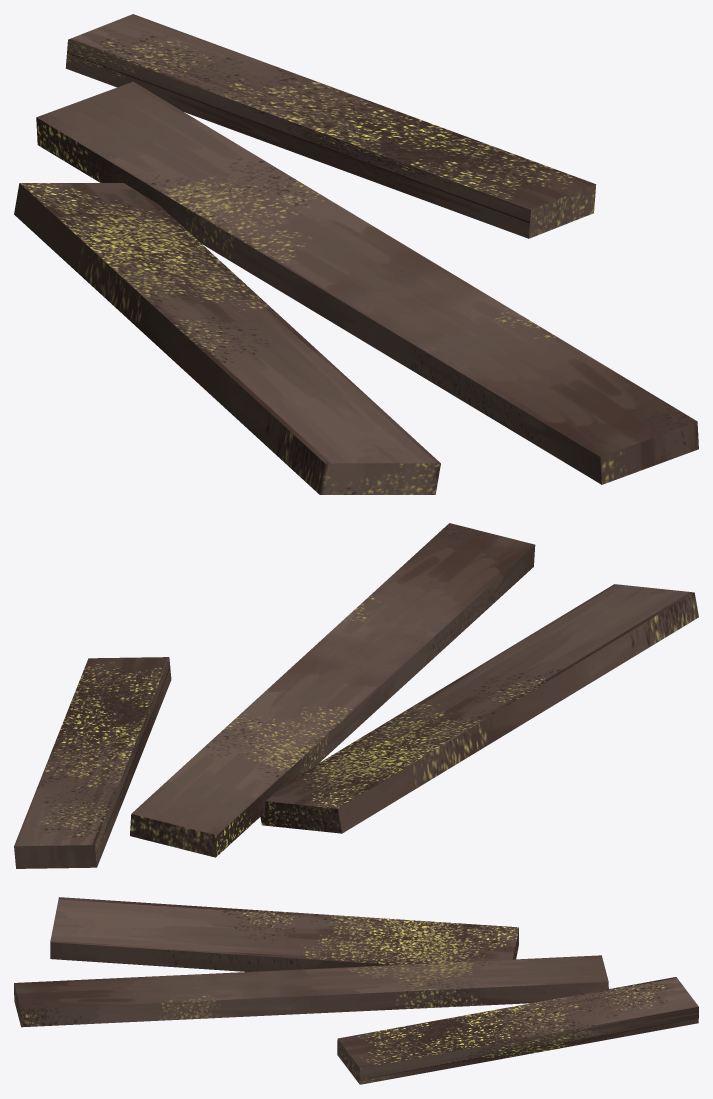
File: Debris01.fbx
The picture shows the model from 3 angles, top to bottom: view 1: azimuth 30°, elevation 25°; view 2: azimuth 150°, elevation 25°; view 3: azimuth 270°, elevation 25°; orthographic projection. The views are drawn at different scales.
Visible parts, largest first — view 1: Debris01; view 2: Debris01; view 3: Debris01.
Part boxes in pixels (left/top/right/bottom): Debris01: left=14, top=14, right=698, bottom=494; Debris01: left=14, top=523, right=698, bottom=868; Debris01: left=14, top=897, right=698, bottom=1084.
Bounding box in the file's own units: 2.23 × 0.2672 × 4.16.
1 material, 1 textured.
